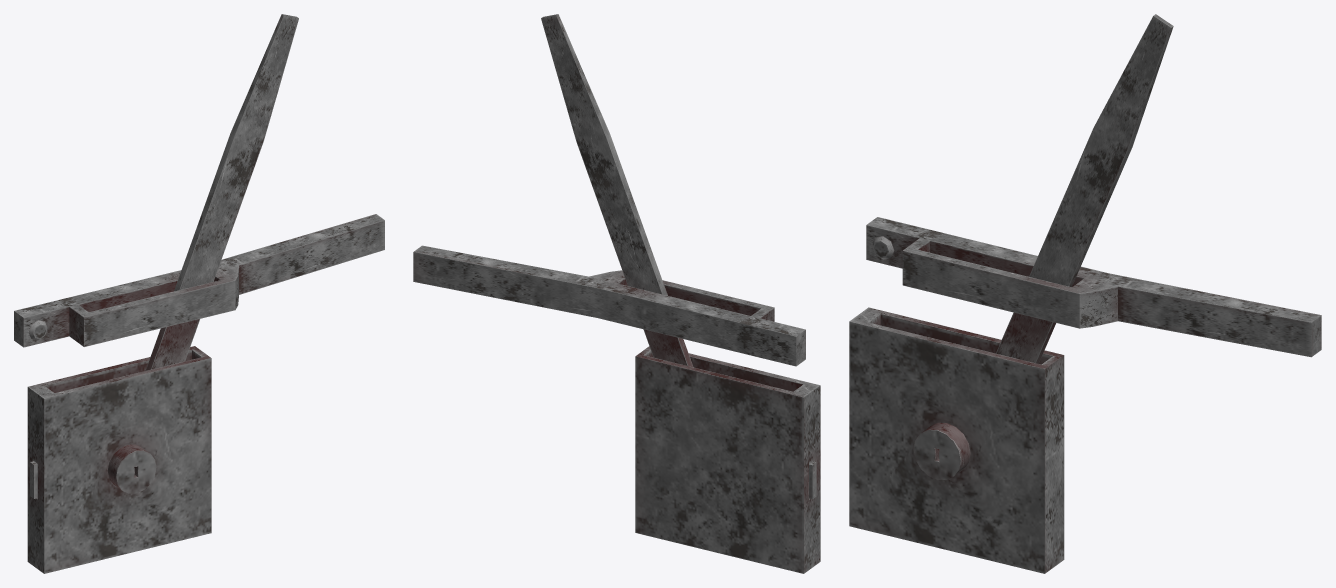
Rendered from Cell lock.fbx.
The picture shows the model from 3 angles, left to right: view 1: azimuth 30°, elevation 25°; view 2: azimuth 150°, elevation 25°; view 3: azimuth 330°, elevation 25°; orthographic projection. The views are drawn at different scales.
Parts seen in each view (by area): view 1: Cube.008, Cube.010; view 2: Cube.008, Cube.010; view 3: Cube.008, Cube.010.
Boxes of the visible parts, left/top/right/bottom form: Cube.008: left=14, top=214, right=384, bottom=573; Cube.010: left=145, top=14, right=298, bottom=370; Cube.008: left=413, top=245, right=820, bottom=573; Cube.010: left=541, top=14, right=693, bottom=367; Cube.008: left=849, top=217, right=1321, bottom=573; Cube.010: left=996, top=14, right=1173, bottom=363.
Bounding box in the file's own units: 62.23 × 78.5 × 12.94.
